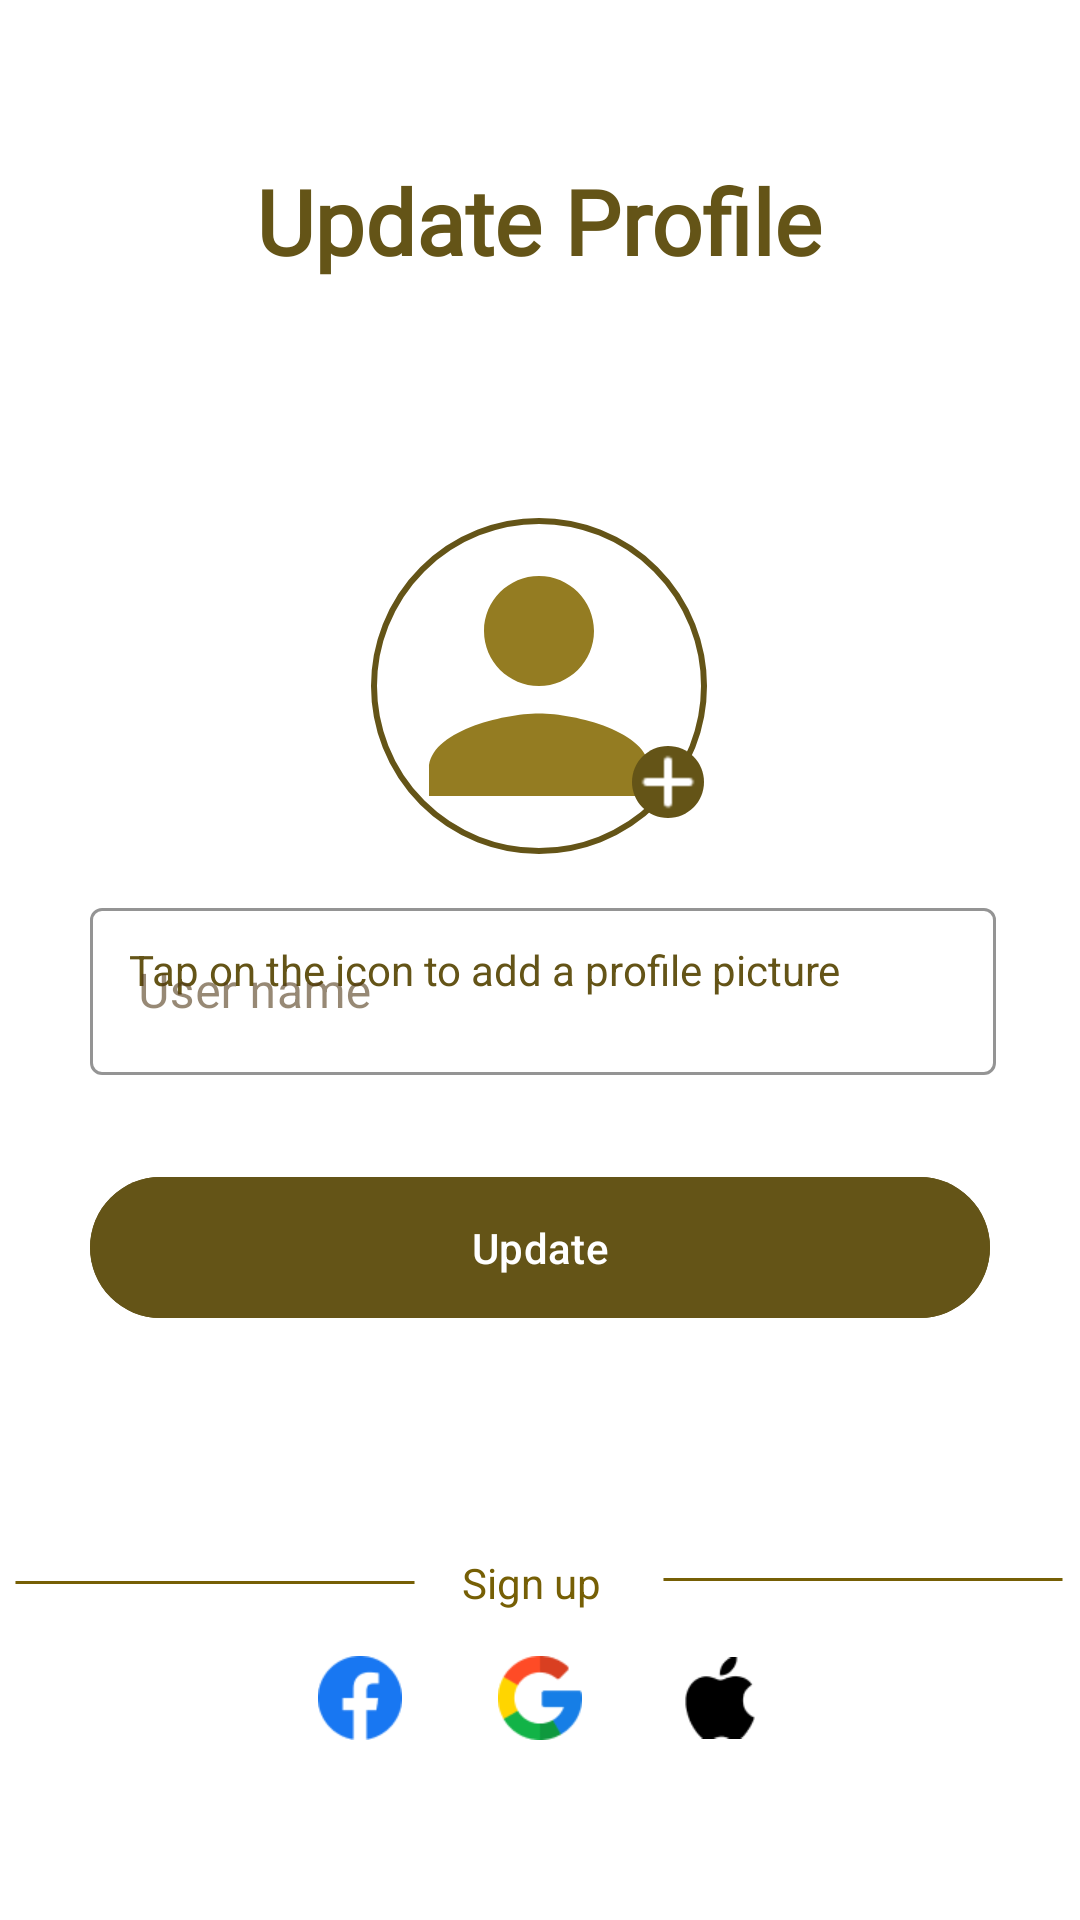

Named icons in this screenshot (1080px x 1920px) and their bounding boxes, (x1, y1, x2, y2):
person: (371, 518, 707, 854)
